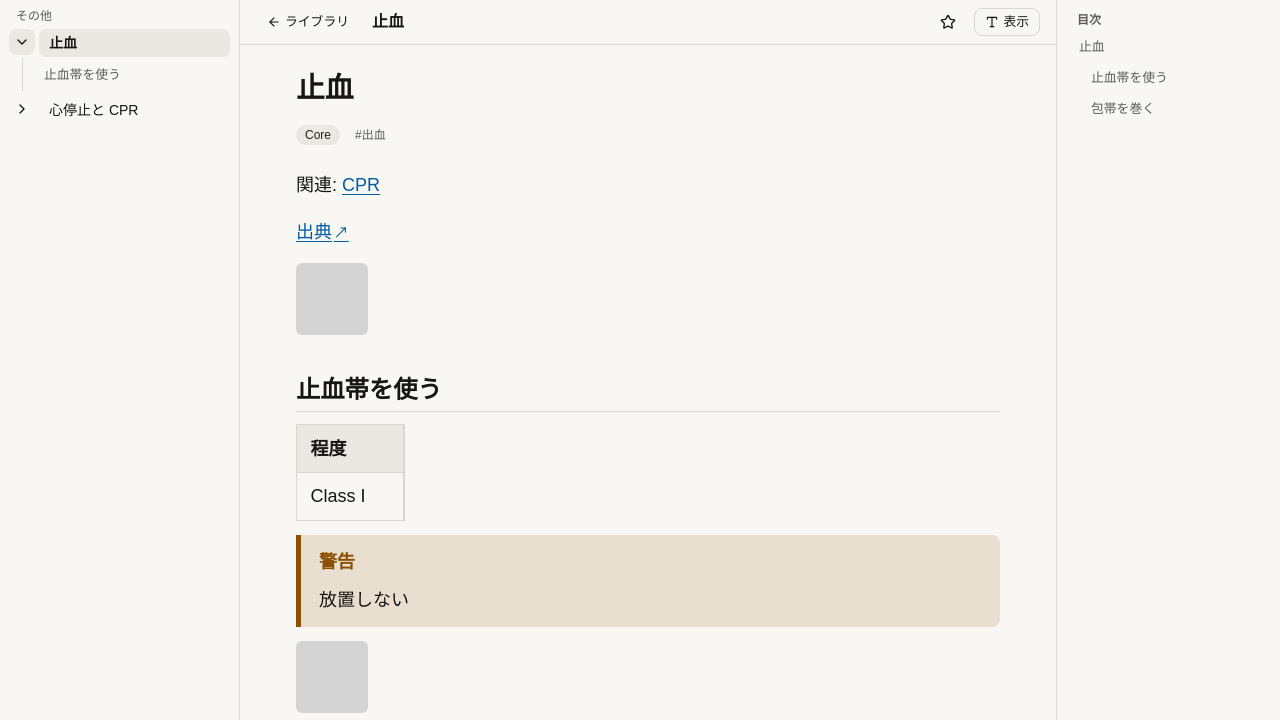
it: DocPage › ツリーの他の文書の見出しも設定の MOD で絞る
expect the heading "止血帯を使う" is shown: met, box [296,374,1000,412]
Click the button named "心停止と CPRの見出し" at [22, 109], box [8,95,36,123]
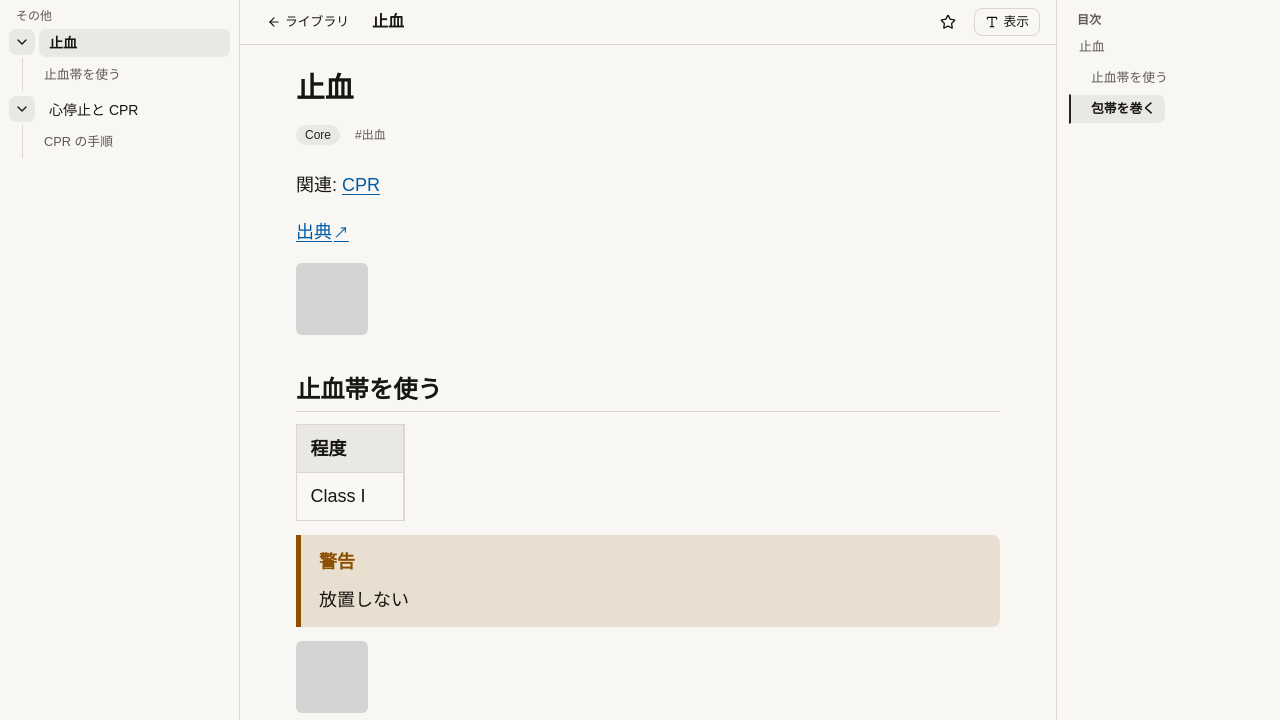
expect the link "CPR の手順" is shown: met, box [44,134,113,149]
